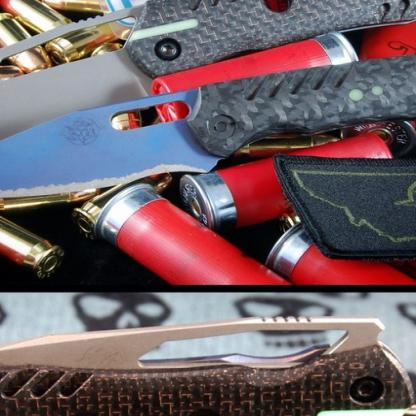knife: (0, 0, 415, 157), (0, 49, 415, 194)
